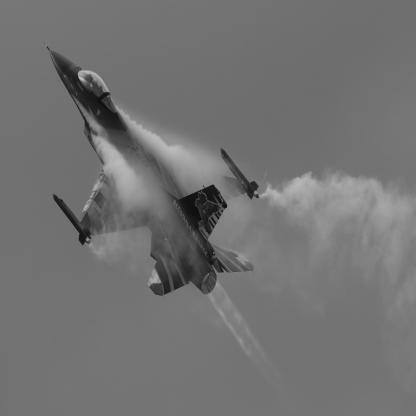F16: (45, 42, 262, 300)
